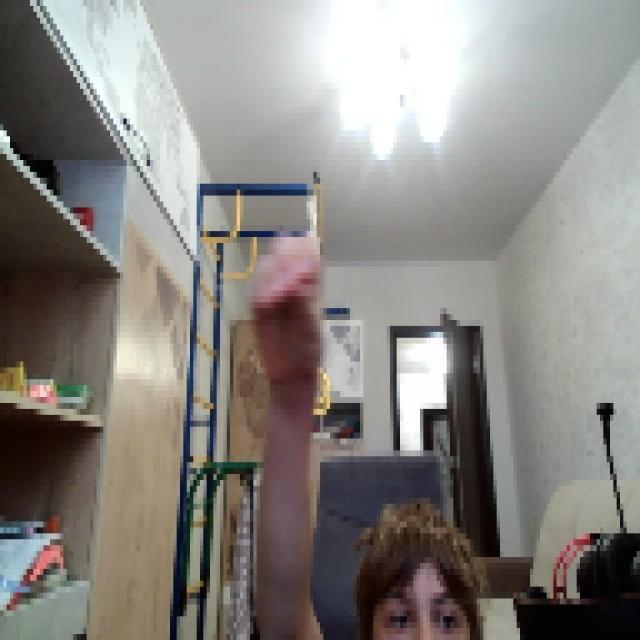left_click: (244, 231, 324, 379)
